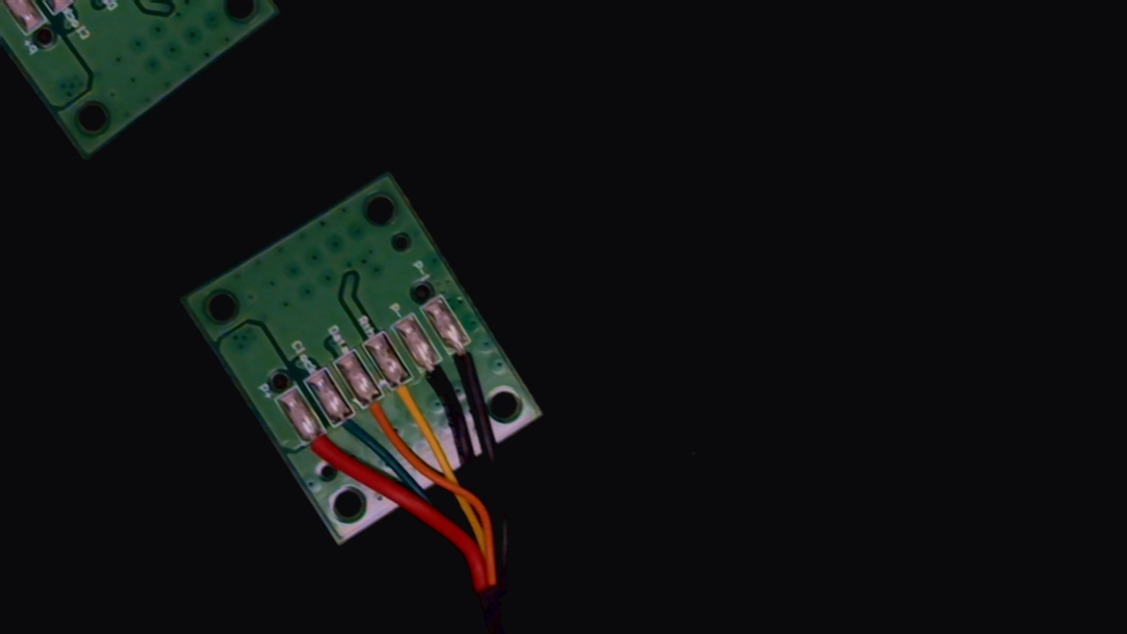Black: (410, 347, 464, 406)
Black1: (440, 326, 488, 379)
Green: (326, 403, 373, 454)
Orange: (355, 383, 408, 445)
Red: (298, 421, 349, 479)
Yellow: (378, 365, 435, 431)
